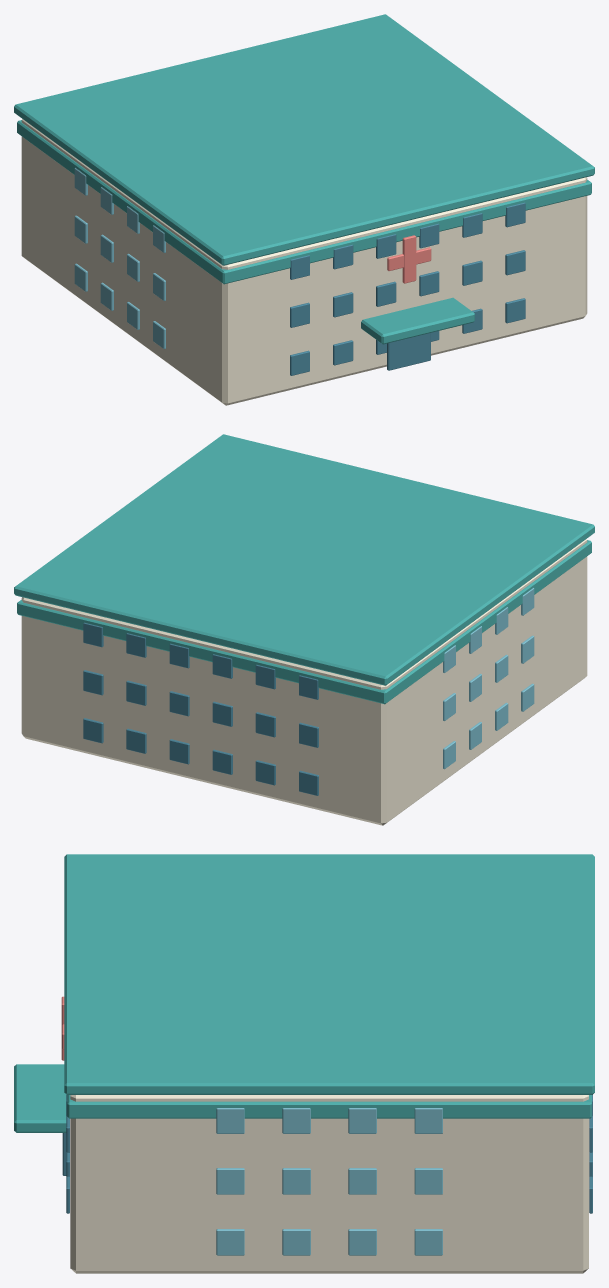
Rendered from CIV_HEALTH_3x3_001.glb.
3 renders of one model, top to bottom at view 1: azimuth 30°, elevation 25°; view 2: azimuth 150°, elevation 25°; view 3: azimuth 270°, elevation 25°, orthographic. The views are drawn at different scales.
Visible parts, largest first — view 1: CIV_HEALTH_3x3_001_Visual; view 2: CIV_HEALTH_3x3_001_Visual; view 3: CIV_HEALTH_3x3_001_Visual.
Part boxes in pixels (box(x1,y1,x2,y2)): CIV_HEALTH_3x3_001_Visual: box(14, 14, 594, 405); CIV_HEALTH_3x3_001_Visual: box(14, 434, 594, 825); CIV_HEALTH_3x3_001_Visual: box(14, 854, 594, 1273).
Size of what is drawn, in the model's own units: 5.37 by 2.11 by 5.71.
